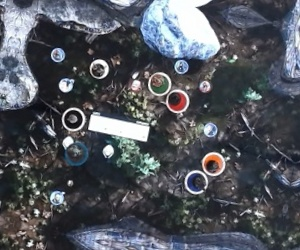black: (60, 107, 87, 134)
blue: (185, 171, 213, 198)
brown_turquoise: (61, 142, 88, 169)
green: (148, 67, 175, 94)
orange: (206, 152, 233, 179)
red: (165, 88, 192, 115)
white: (84, 54, 111, 81)
